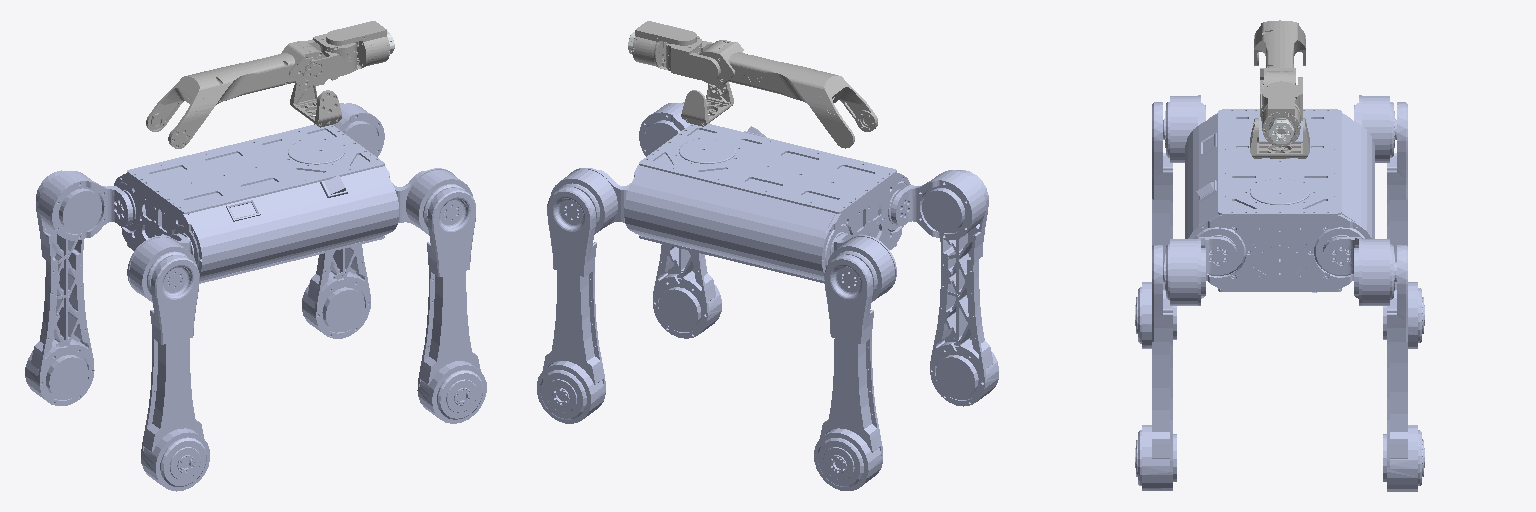
--- What the picture shows (computed from the rendered views, not written in the file) ---
The picture shows the robot from 3 angles, left to right: view 1: azimuth 30°, elevation 25°; view 2: azimuth 150°, elevation 25°; view 3: azimuth 270°, elevation 25°; orthographic projection.
Model lion with 25 links and 24 joints (18 revolute, 6 fixed), rooted at base, posed joints at zero except 4 at the middle of their limits (RF_KFE = -1.75, LF_KFE = -1.75, RH_KFE = -1.75, LH_KFE = -1.75).
Links seen in each view (by area): view 1: base, RH_thigh, RF_thigh, LH_thigh, elbow_link, LF_thigh, LH_hip, RF_hip, RH_hip, wrist_link, lower_arm_link, LF_hip (+1 smaller); view 2: base, LF_thigh, LH_thigh, RH_thigh, elbow_link, RF_thigh, RH_hip, LF_hip, LH_hip, wrist_link, lower_arm_link, RF_hip (+1 smaller); view 3: base, LF_thigh, RF_thigh, RF_hip, LF_hip, RH_thigh, LH_thigh, elbow_link, RH_hip, LH_hip, wrist_link, shoulder_link.
Link boxes in pixels (x1,y1,x2,y2): base: [114, 124, 398, 283]; RH_thigh: [141, 255, 209, 491]; RF_thigh: [417, 187, 486, 423]; LH_thigh: [25, 170, 94, 405]; elbow_link: [146, 41, 325, 148]; LF_thigh: [302, 103, 370, 338]; LH_hip: [38, 171, 132, 240]; RF_hip: [392, 168, 472, 234]; RH_hip: [127, 233, 196, 302]; wrist_link: [326, 21, 389, 69]; lower_arm_link: [303, 34, 356, 85]; LF_hip: [333, 103, 384, 157]; base: [624, 124, 910, 283]; LF_thigh: [537, 187, 605, 423]; LH_thigh: [814, 254, 882, 490]; RH_thigh: [930, 170, 998, 406]; elbow_link: [699, 40, 877, 148]; RF_thigh: [653, 102, 721, 338]; RH_hip: [891, 170, 985, 239]; LF_hip: [550, 168, 630, 234]; LH_hip: [828, 233, 896, 301]; wrist_link: [632, 21, 696, 70]; lower_arm_link: [666, 36, 720, 81]; RF_hip: [639, 103, 690, 156]; base: [1185, 109, 1374, 292]; LF_thigh: [1383, 245, 1424, 491]; RF_thigh: [1135, 245, 1176, 490]; RF_hip: [1163, 237, 1236, 305]; LF_hip: [1323, 237, 1396, 305]; RH_thigh: [1135, 102, 1176, 348]; LH_thigh: [1383, 102, 1424, 348]; elbow_link: [1254, 20, 1305, 88]; RH_hip: [1163, 95, 1205, 162]; LH_hip: [1354, 95, 1396, 162]; wrist_link: [1261, 81, 1301, 146]; shoulder_link: [1250, 118, 1309, 158].
Size in the robot's own frame: 0.593 by 0.424 by 0.6014 metres.
Meshes: 12 distinct files referenced, 14 mesh visuals loaded (8 binary STL); not drawn: 10 (reference not matched to a file when rendering).

URDF robot description (lion):
<?xml version="1.0" ?>
<!-- =================================================================================== -->
<!-- |    This document was autogenerated by xacro from robot.xacro                    | -->
<!-- |    EDITING THIS FILE BY HAND IS NOT RECOMMENDED                                 | -->
<!-- =================================================================================== -->
<robot name="lion">
  <!-- <xacro:arg name="robot_type" default="lion"/> -->
  <!-- ros_control plugin -->
  <gazebo>
    <plugin filename="liblegged_hw_sim.so" name="gazebo_ros_control">
      <robotNamespace>/</robotNamespace>
      <robotParam>legged_robot_description</robotParam>
      <robotSimType>legged_gazebo/QuadHWSim</robotSimType>
      <!-- <controlPeriod>0.002</controlPeriod> -->
    </plugin>
  </gazebo>
  <gazebo>
    <plugin filename="libgazebo_ros_p3d.so" name="p3d_base_controller">
      <alwaysOn>true</alwaysOn>
      <updateRate>1000.0</updateRate>
      <bodyName>base</bodyName>
      <topicName>ground_truth/state</topicName>
      <gaussianNoise>0</gaussianNoise>
      <frameName>world</frameName>
      <xyzOffsets>0 0 0</xyzOffsets>
      <rpyOffsets>0 0 0</rpyOffsets>
    </plugin>
  </gazebo>
  <gazebo reference="base">
    <maxVel>100.</maxVel>
    <kp>10000.</kp>
    <kd>0.</kd>
  </gazebo>
  <gazebo reference="stick_link">
    <mu1>0.2</mu1>
    <mu2>0.2</mu2>
    <material>Gazebo/White</material>
  </gazebo>
  <!-- LF leg -->
  <gazebo reference="LF_hip">
    <mu1>0.2</mu1>
    <mu2>0.2</mu2>
    <material>Gazebo/DarkGrey</material>
  </gazebo>
  <gazebo reference="LF_thigh">
    <mu1>0.2</mu1>
    <mu2>0.2</mu2>
    <self_collide>1</self_collide>
    <material>Gazebo/DarkGrey</material>
    <kp value="1000000.0"/>
    <kd value="1.0"/>
  </gazebo>
  <gazebo reference="LF_calf">
    <mu1>0.2</mu1>
    <mu2>0.2</mu2>
    <self_collide>1</self_collide>
  </gazebo>
  <gazebo reference="LF_FOOT">
    <mu1>0.9</mu1>
    <mu2>0.9</mu2>
    <self_collide>1</self_collide>
    <material>Gazebo/DarkGrey</material>
    <kp value="1000000.0"/>
    <kd value="100.0"/>
  </gazebo>
  <!-- RF leg -->
  <gazebo reference="RF_hip">
    <mu1>0.2</mu1>
    <mu2>0.2</mu2>
    <material>Gazebo/DarkGrey</material>
  </gazebo>
  <gazebo reference="RF_thigh">
    <mu1>0.2</mu1>
    <mu2>0.2</mu2>
    <self_collide>1</self_collide>
    <material>Gazebo/DarkGrey</material>
    <kp value="1000000.0"/>
    <kd value="1.0"/>
  </gazebo>
  <gazebo reference="RF_calf">
    <mu1>0.2</mu1>
    <mu2>0.2</mu2>
    <self_collide>1</self_collide>
  </gazebo>
  <gazebo reference="RF_FOOT">
    <mu1>0.9</mu1>
    <mu2>0.9</mu2>
    <self_collide>1</self_collide>
    <material>Gazebo/DarkGrey</material>
    <kp value="1000000.0"/>
    <kd value="1.0"/>
  </gazebo>
  <!-- LH leg -->
  <gazebo reference="LH_hip">
    <mu1>0.2</mu1>
    <mu2>0.2</mu2>
    <material>Gazebo/DarkGrey</material>
  </gazebo>
  <gazebo reference="LH_thigh">
    <mu1>0.2</mu1>
    <mu2>0.2</mu2>
    <self_collide>1</self_collide>
    <material>Gazebo/DarkGrey</material>
    <kp value="1000000.0"/>
    <kd value="1.0"/>
  </gazebo>
  <gazebo reference="LH_calf">
    <mu1>0.2</mu1>
    <mu2>0.2</mu2>
    <self_collide>1</self_collide>
  </gazebo>
  <gazebo reference="LH_FOOT">
    <mu1>0.9</mu1>
    <mu2>0.9</mu2>
    <self_collide>1</self_collide>
    <material>Gazebo/DarkGrey</material>
    <kp value="1000000.0"/>
    <kd value="1.0"/>
  </gazebo>
  <!-- RH leg -->
  <gazebo reference="RH_hip">
    <mu1>0.2</mu1>
    <mu2>0.2</mu2>
    <material>Gazebo/DarkGrey</material>
  </gazebo>
  <gazebo reference="RH_thigh">
    <mu1>0.2</mu1>
    <mu2>0.2</mu2>
    <self_collide>1</self_collide>
    <material>Gazebo/DarkGrey</material>
    <kp value="1000000.0"/>
    <kd value="1.0"/>
  </gazebo>
  <gazebo reference="RH_calf">
    <mu1>0.2</mu1>
    <mu2>0.2</mu2>
    <self_collide>1</self_collide>
  </gazebo>
  <gazebo reference="RH_FOOT">
    <mu1>0.9</mu1>
    <mu2>0.9</mu2>
    <self_collide>1</self_collide>
    <material>Gazebo/DarkGrey</material>
    <kp value="1000000.0"/>
    <kd value="1.0"/>
  </gazebo>
  <!-- <xacro:include filename="$(find lion_arx_description)/urdf/$(arg robot_type)/const.xacro"/> -->
  <!--Quadruped
  Model*******************************************************************************************-->
  <link name="base">
    <inertial>
      <origin rpy="0 0 0" xyz="-0.000638750070817345 -0.00672058356158241 -0.00556735378698432"/>
      <mass value="8.286"/>
      <inertia ixx="0.056529" ixy="-0.001107" ixz="-3.045E-05" iyy="0.14156" iyz="-0.0011531" izz="0.17939"/>
    </inertial>
    <visual>
      <origin rpy="0 0 0" xyz="0 0 0"/>
      <geometry>
        <mesh filename="package://lion_arx_description/meshes/base_link.STL"/>
      </geometry>
      <material name="">
        <color rgba="0.792156862745098 0.819607843137255 0.933333333333333 1"/>
      </material>
    </visual>
    <collision>
      <origin rpy="0 0 0" xyz="0 0 0"/>
      <geometry>
        <box size="0.35 0.24 0.14"/>
      </geometry>
    </collision>
  </link>
  <link name="RF_hip">
    <inertial>
      <origin rpy="0 0 0" xyz="-0.0050797 -0.047183 4.172E-05"/>
      <mass value="1.095"/>
      <inertia ixx="0.0010035" ixy="-0.00021789" ixz="1.433E-06" iyy="0.0014762" iyz="1.005E-06" izz="0.0012507"/>
    </inertial>
    <visual>
      <origin rpy="0 0 0" xyz="0 0 0"/>
      <geometry>
        <mesh filename="package://lion_arx_description/meshes/hip_Link.STL"/>
      </geometry>
      <material name="">
        <color rgba="0.79216 0.81961 0.93333 1"/>
      </material>
    </visual>
    <collision>
      <origin rpy="1.5707963267948966 0 0" xyz="0.0 -0.05 0"/>
      <geometry>
        <!-- <box size="0.05 0.03 0.3"/> -->
        <cylinder length="0.06" radius="0.05"/>
      </geometry>
    </collision>
  </link>
  <joint name="RF_HAA" type="revolute">
    <origin rpy="0.0 0.0 0 " xyz="0.2467 -0.09 0"/>
    <parent link="base"/>
    <child link="RF_hip"/>
    <axis xyz="1 0 0"/>
    <limit effort="55" lower="-1.0" upper="1.0" velocity="30"/>
  </joint>
  <link name="RF_thigh">
    <inertial>
      '' 
      <origin rpy="0 0 0" xyz="-2.7705E-05 -0.089684 -0.23198"/>
      <mass value="1.556"/>
      <inertia ixx="0.015631" ixy="-8.61E-07" ixz="-6.078E-06" iyy="0.016183" iyz="0.0004689" izz="0.0011163"/>
    </inertial>
    <visual>
      <origin rpy="0 0 0" xyz="0 0 0"/>
      <geometry>
        <mesh filename="package://lion_arx_description/meshes/thigh_Link.STL"/>
      </geometry>
      <material name="">
        <color rgba="0.79216 0.81961 0.93333 1"/>
      </material>
    </visual>
    <collision>
      <origin rpy="1.5707963267948966 0 0" xyz="0 -0.09 -0.3"/>
      <geometry>
        <!-- <box size="0.05 0.03 0.3"/> -->
        <cylinder length="0.06" radius="0.05"/>
      </geometry>
    </collision>
  </link>
  <joint name="RF_HFE" type="revolute">
    <origin rpy="0 0.0 0" xyz="0 0 0"/>
    <parent link="RF_hip"/>
    <child link="RF_thigh"/>
    <axis xyz="0 1 0"/>
    <limit effort="55" lower="-3.0" upper="3.0" velocity="30"/>
  </joint>
  <link name="RF_calf">
    <inertial>
      <origin rpy="0 0 0" xyz="2.05E-06 -0.12517 -0.080832"/>
      <mass value="0.233"/>
      <inertia ixx="0.0033053" ixy="-3.64E-07" ixz="4.028E-06" iyy="0.0033126" iyz="-0.00013194" izz="4.3236E-05"/>
    </inertial>
    <visual>
      <origin rpy="0 0 0" xyz="0 0 0"/>
      <geometry>
        <mesh filename="package://lion_arx_description/meshes/shank_Link.STL"/>
      </geometry>
      <material name="">
        <color rgba="0.79216 0.81961 0.93333 1"/>
      </material>
    </visual>
    <collision>
      <origin rpy="0 0 0" xyz="0 -0.119 -0.15"/>
      <geometry>
        <cylinder length="0.2" radius="0.01"/>
      </geometry>
    </collision>
  </link>
  <joint name="RF_KFE" type="revolute">
    <origin rpy="0 0 0" xyz="0 0 -0.3"/>
    <parent link="RF_thigh"/>
    <child link="RF_calf"/>
    <axis xyz="0 1 0"/>
    <limit effort="55" lower="-3.0" upper="-0.5" velocity="30"/>
  </joint>
  <link name="RF_FOOT">
    <contact>
      <friction_anchor/>
      <stiffness value="30000.0"/>
      <damping value="1000.0"/>
      <spinning_friction value="0.3"/>
      <lateral_friction value="3.0"/>
    </contact>
    <inertial>
      <origin rpy="0 0 0" xyz="0.0002617 0.00017365 0.0085579"/>
      <!-- <mass value="0.03946"/> -->
      <mass value="0.01"/>
      <!-- <inertia ixx="1.4527E-05" ixy="-8.5021E-08" ixz="-4.0103E-07" iyy="1.4601E-05"
      iyz="-2.6548E-07" izz="6.2338E-06"/> -->
      <inertia ixx="0.001983" ixy="0.000245" ixz="0.000013" iyy="0.002103" iyz="0.0000015" izz="0.000408"/>
    </inertial>
    <visual>
      <origin rpy="0 0 0" xyz="0 0 0"/>
      <geometry>
        <mesh filename="package://lion_arx_description/meshes/foot_Link.STL"/>
      </geometry>
      <material name="">
        <color rgba="0.79216 0.81961 0.93333 1"/>
      </material>
    </visual>
    <collision>
      <origin rpy="0 0 0" xyz="0 0 0.002"/>
      <geometry>
        <sphere radius="0.02"/>
      </geometry>
    </collision>
  </link>
  <joint name="JointFR_foot" type="fixed">
    <origin rpy="0 0 0" xyz="0 -0.119 -0.3105"/>
    <parent link="RF_calf"/>
    <child link="RF_FOOT"/>
    <axis xyz="0 0 1"/>
  </joint>
  <link name="LF_hip">
    <inertial>
      <origin rpy="0 0 0" xyz="-0.0050797 -0.047183 4.172E-05"/>
      <!-- <mass value="0.39498"/> -->
      <mass value="1.095"/>
      <inertia ixx="0.0010035" ixy="-0.00021789" ixz="1.433E-06" iyy="0.0014762" iyz="1.005E-06" izz="0.0012507"/>
    </inertial>
    <visual>
      <origin rpy="0 0 0" xyz="0 0 0"/>
      <geometry>
        <mesh filename="package://lion_arx_description/meshes/hip_Link.STL"/>
      </geometry>
      <material name="">
        <color rgba="0.79216 0.81961 0.93333 1"/>
      </material>
    </visual>
    <collision>
      <origin rpy="1.5707963267948966 0 0" xyz="0.0 -0.05 0"/>
      <geometry>
        <!-- <box size="0.05 0.03 0.3"/> -->
        <cylinder length="0.06" radius="0.05"/>
      </geometry>
    </collision>
  </link>
  <joint name="LF_HAA" type="revolute">
    <origin rpy="3.141592653589793 0.0 0 " xyz="0.2467 0.09 0"/>
    <parent link="base"/>
    <child link="LF_hip"/>
    <axis xyz="1 0 0"/>
    <limit effort="55" lower="-1.0" upper="1.0" velocity="30"/>
  </joint>
  <link name="LF_thigh">
    <inertial>
      <origin rpy="0 0 0" xyz="-2.7705E-05 -0.089684 -0.23198"/>
      <mass value="1.556"/>
      <inertia ixx="0.015631" ixy="-8.61E-07" ixz="-6.078E-06" iyy="0.016183" iyz="0.0004689" izz="0.0011163"/>
    </inertial>
    <visual>
      <origin rpy="0 0 0" xyz="0 0 0"/>
      <geometry>
        <mesh filename="package://lion_arx_description/meshes/thigh_Link.STL"/>
      </geometry>
      <material name="">
        <color rgba="0.79216 0.81961 0.93333 1"/>
      </material>
    </visual>
    <collision>
      <origin rpy="1.5707963267948966 0 0" xyz="0 -0.09 -0.3"/>
      <geometry>
        <!-- <box size="0.05 0.03 0.3"/> -->
        <cylinder length="0.06" radius="0.05"/>
      </geometry>
    </collision>
  </link>
  <joint name="LF_HFE" type="revolute">
    <origin rpy="0 3.141592653589793 0" xyz="0 0 0"/>
    <parent link="LF_hip"/>
    <child link="LF_thigh"/>
    <axis xyz="0 -1 0"/>
    <limit effort="55" lower="-3.0" upper="3.0" velocity="30"/>
  </joint>
  <link name="LF_calf">
    <inertial>
      <origin rpy="0 0 0" xyz="2.05E-06 -0.12517 -0.080832"/>
      <mass value="0.233"/>
      <inertia ixx="0.0033053" ixy="-3.64E-07" ixz="4.028E-06" iyy="0.0033126" iyz="-0.00013194" izz="4.3236E-05"/>
    </inertial>
    <visual>
      <origin rpy="0 0 0" xyz="0 0 0"/>
      <geometry>
        <mesh filename="package://lion_arx_description/meshes/shank_Link.STL"/>
      </geometry>
      <material name="">
        <color rgba="0.79216 0.81961 0.93333 1"/>
      </material>
    </visual>
    <collision>
      <origin rpy="0 0 0" xyz="0 -0.119 -0.15"/>
      <geometry>
        <cylinder length="0.2" radius="0.01"/>
      </geometry>
    </collision>
  </link>
  <joint name="LF_KFE" type="revolute">
    <origin rpy="0 0 0" xyz="0 0 -0.3"/>
    <parent link="LF_thigh"/>
    <child link="LF_calf"/>
    <axis xyz="0 -1 0"/>
    <limit effort="55" lower="-3.0" upper="-0.5" velocity="30"/>
  </joint>
  <link name="LF_FOOT">
    <contact>
      <friction_anchor/>
      <stiffness value="30000.0"/>
      <damping value="1000.0"/>
      <spinning_friction value="0.3"/>
      <lateral_friction value="3.0"/>
    </contact>
    <inertial>
      <origin rpy="0 0 0" xyz="0.0002617 0.00017365 0.0085579"/>
      <!-- <mass value="0.03946"/> -->
      <mass value="0.01"/>
      <!-- <inertia ixx="1.4527E-05" ixy="-8.5021E-08" ixz="-4.0103E-07" iyy="1.4601E-05"
      iyz="-2.6548E-07" izz="6.2338E-06"/> -->
      <inertia ixx="0.001983" ixy="0.000245" ixz="0.000013" iyy="0.002103" iyz="0.0000015" izz="0.000408"/>
    </inertial>
    <visual>
      <origin rpy="0 0 0" xyz="0 0 0"/>
      <geometry>
        <mesh filename="package://lion_arx_description/meshes/foot_Link.STL"/>
      </geometry>
      <material name="">
        <color rgba="0.79216 0.81961 0.93333 1"/>
      </material>
    </visual>
    <collision>
      <origin rpy="0 0 0" xyz="0 0 0.002"/>
      <geometry>
        <sphere radius="0.02"/>
      </geometry>
    </collision>
  </link>
  <joint name="JointFL_foot" type="fixed">
    <origin rpy="0 0 0" xyz="0 -0.119 -0.3105"/>
    <parent link="LF_calf"/>
    <child link="LF_FOOT"/>
    <axis xyz="0 0 1"/>
  </joint>
  <link name="RH_hip">
    <inertial>
      <origin rpy="0 0 0" xyz="-0.0050797 -0.047183 4.172E-05"/>
      <mass value="1.095"/>
      <inertia ixx="0.0010035" ixy="-0.00021789" ixz="1.433E-06" iyy="0.0014762" iyz="1.005E-06" izz="0.0012507"/>
    </inertial>
    <visual>
      <origin rpy="0 0 0" xyz="0 0 0"/>
      <geometry>
        <mesh filename="package://lion_arx_description/meshes/hip_Link.STL"/>
      </geometry>
      <material name="">
        <color rgba="0.79216 0.81961 0.93333 1"/>
      </material>
    </visual>
    <collision>
      <origin rpy="1.5707963267948966 0 0" xyz="0.0 -0.05 0"/>
      <geometry>
        <!-- <box size="0.05 0.03 0.3"/> -->
        <cylinder length="0.06" radius="0.05"/>
      </geometry>
    </collision>
  </link>
  <joint name="RH_HAA" type="revolute">
    <origin rpy="0.0 3.141592653589793 0 " xyz="-0.2467 -0.09 0"/>
    <parent link="base"/>
    <child link="RH_hip"/>
    <axis xyz="-1 0 0"/>
    <limit effort="55" lower="-1.0" upper="1.0" velocity="30"/>
  </joint>
  <link name="RH_thigh">
    <inertial>
      <origin rpy="0 0 0" xyz="-2.7705E-05 -0.089684 -0.23198"/>
      <mass value="1.556"/>
      <inertia ixx="0.015631" ixy="-8.61E-07" ixz="-6.078E-06" iyy="0.016183" iyz="0.0004689" izz="0.0011163"/>
    </inertial>
    <visual>
      <origin rpy="0 0 0" xyz="0 0 0"/>
      <geometry>
        <mesh filename="package://lion_arx_description/meshes/thigh_Link.STL"/>
      </geometry>
      <material name="">
        <color rgba="0.79216 0.81961 0.93333 1"/>
      </material>
    </visual>
    <collision>
      <origin rpy="1.5707963267948966 0 0" xyz="0 -0.09 -0.3"/>
      <geometry>
        <!-- <box size="0.05 0.03 0.3"/> -->
        <cylinder length="0.06" radius="0.05"/>
      </geometry>
    </collision>
  </link>
  <joint name="RH_HFE" type="revolute">
    <origin rpy="0 3.141592653589793 0" xyz="0 0 0"/>
    <parent link="RH_hip"/>
    <child link="RH_thigh"/>
    <axis xyz="0 1 0"/>
    <limit effort="55" lower="-3.0" upper="3.0" velocity="30"/>
  </joint>
  <link name="RH_calf">
    <inertial>
      <origin rpy="0 0 0" xyz="2.05E-06 -0.12517 -0.080832"/>
      <mass value="0.233"/>
      <inertia ixx="0.0033053" ixy="-3.64E-07" ixz="4.028E-06" iyy="0.0033126" iyz="-0.00013194" izz="4.3236E-05"/>
    </inertial>
    <visual>
      <origin rpy="0 0 0" xyz="0 0 0"/>
      <geometry>
        <mesh filename="package://lion_arx_description/meshes/shank_Link.STL"/>
      </geometry>
      <material name="">
        <color rgba="0.79216 0.81961 0.93333 1"/>
      </material>
    </visual>
    <collision>
      <origin rpy="0 0 0" xyz="0 -0.119 -0.15"/>
      <geometry>
        <cylinder length="0.2" radius="0.01"/>
      </geometry>
    </collision>
  </link>
  <joint name="RH_KFE" type="revolute">
    <origin rpy="0 0 0" xyz="0 0 -0.3"/>
    <parent link="RH_thigh"/>
    <child link="RH_calf"/>
    <axis xyz="0 1 0"/>
    <limit effort="55" lower="-3.0" upper="-0.5" velocity="30"/>
  </joint>
  <link name="RH_FOOT">
    <contact>
      <friction_anchor/>
      <stiffness value="30000.0"/>
      <damping value="1000.0"/>
      <spinning_friction value="0.3"/>
      <lateral_friction value="3.0"/>
    </contact>
    <inertial>
      <origin rpy="0 0 0" xyz="0.0002617 0.00017365 0.0085579"/>
      <!-- <mass value="0.03946"/> -->
      <mass value="0.01"/>
      <!-- <inertia ixx="1.4527E-05" ixy="-8.5021E-08" ixz="-4.0103E-07" iyy="1.4601E-05"
      iyz="-2.6548E-07" izz="6.2338E-06"/> -->
      <inertia ixx="0.001983" ixy="0.000245" ixz="0.000013" iyy="0.002103" iyz="0.0000015" izz="0.000408"/>
    </inertial>
    <visual>
      <origin rpy="0 0 0" xyz="0 0 0"/>
      <geometry>
        <mesh filename="package://lion_arx_description/meshes/foot_Link.STL"/>
      </geometry>
      <material name="">
        <color rgba="0.79216 0.81961 0.93333 1"/>
      </material>
    </visual>
    <collision>
      <origin rpy="0 0 0" xyz="0 0 0.002"/>
      <geometry>
        <sphere radius="0.02"/>
      </geometry>
    </collision>
  </link>
  <joint name="JointHR_foot" type="fixed">
    <origin rpy="0 0 0" xyz="0 -0.119 -0.3105"/>
    <parent link="RH_calf"/>
    <child link="RH_FOOT"/>
    <axis xyz="0 0 1"/>
  </joint>
  <link name="LH_hip">
    <inertial>
      <origin rpy="0 0 0" xyz="-0.0050797 -0.047183 4.172E-05"/>
      <mass value="1.095"/>
      <inertia ixx="0.0010035" ixy="-0.00021789" ixz="1.433E-06" iyy="0.0014762" iyz="1.005E-06" izz="0.0012507"/>
    </inertial>
    <visual>
      <origin rpy="0 0 0" xyz="0 0 0"/>
      <geometry>
        <mesh filename="package://lion_arx_description/meshes/hip_Link.STL"/>
      </geometry>
      <material name="">
        <color rgba="0.79216 0.81961 0.93333 1"/>
      </material>
    </visual>
    <collision>
      <origin rpy="1.5707963267948966 0 0" xyz="0.0 -0.05 0"/>
      <geometry>
        <!-- <box size="0.05 0.03 0.3"/> -->
        <cylinder length="0.06" radius="0.05"/>
      </geometry>
    </collision>
  </link>
  <joint name="LH_HAA" type="revolute">
    <origin rpy="3.141592653589793 3.141592653589793 0 " xyz="-0.2467 0.09 0"/>
    <parent link="base"/>
    <child link="LH_hip"/>
    <axis xyz="-1 0 0"/>
    <limit effort="55" lower="-1.0" upper="1.0" velocity="30"/>
  </joint>
  <link name="LH_thigh">
    <inertial>
      <origin rpy="0 0 0" xyz="-2.7705E-05 -0.089684 -0.23198"/>
      <mass value="1.556"/>
      <inertia ixx="0.015631" ixy="-8.61E-07" ixz="-6.078E-06" iyy="0.016183" iyz="0.0004689" izz="0.0011163"/>
    </inertial>
    <visual>
      <origin rpy="0 0 0" xyz="0 0 0"/>
      <geometry>
        <mesh filename="package://lion_arx_description/meshes/thigh_Link.STL"/>
      </geometry>
      <material name="">
        <color rgba="0.79216 0.81961 0.93333 1"/>
      </material>
    </visual>
    <collision>
      <origin rpy="1.5707963267948966 0 0" xyz="0 -0.09 -0.3"/>
      <geometry>
        <!-- <box size="0.05 0.03 0.3"/> -->
        <cylinder length="0.06" radius="0.05"/>
      </geometry>
    </collision>
  </link>
  <joint name="LH_HFE" type="revolute">
    <origin rpy="0 6.283185307179586 0" xyz="0 0 0"/>
    <parent link="LH_hip"/>
    <child link="LH_thigh"/>
    <axis xyz="0 -1 0"/>
    <limit effort="55" lower="-3.0" upper="3.0" velocity="30"/>
  </joint>
  <link name="LH_calf">
    <inertial>
      <origin rpy="0 0 0" xyz="2.05E-06 -0.12517 -0.080832"/>
      <mass value="0.233"/>
      <inertia ixx="0.0033053" ixy="-3.64E-07" ixz="4.028E-06" iyy="0.0033126" iyz="-0.00013194" izz="4.3236E-05"/>
    </inertial>
    <visual>
      <origin rpy="0 0 0" xyz="0 0 0"/>
      <geometry>
        <mesh filename="package://lion_arx_description/meshes/shank_Link.STL"/>
      </geometry>
      <material name="">
        <color rgba="0.79216 0.81961 0.93333 1"/>
      </material>
    </visual>
    <collision>
      <origin rpy="0 0 0" xyz="0 -0.119 -0.15"/>
      <geometry>
        <cylinder length="0.2" radius="0.01"/>
      </geometry>
    </collision>
  </link>
  <joint name="LH_KFE" type="revolute">
    <origin rpy="0 0 0" xyz="0 0 -0.3"/>
    <parent link="LH_thigh"/>
    <child link="LH_calf"/>
    <axis xyz="0 -1 0"/>
    <limit effort="55" lower="-3.0" upper="-0.5" velocity="30"/>
  </joint>
  <link name="LH_FOOT">
    <contact>
      <friction_anchor/>
      <stiffness value="30000.0"/>
      <damping value="1000.0"/>
      <spinning_friction value="0.3"/>
      <lateral_friction value="3.0"/>
    </contact>
    <inertial>
      <origin rpy="0 0 0" xyz="0.0002617 0.00017365 0.0085579"/>
      <!-- <mass value="0.03946"/> -->
      <mass value="0.01"/>
      <!-- <inertia ixx="1.4527E-05" ixy="-8.5021E-08" ixz="-4.0103E-07" iyy="1.4601E-05"
      iyz="-2.6548E-07" izz="6.2338E-06"/> -->
      <inertia ixx="0.001983" ixy="0.000245" ixz="0.000013" iyy="0.002103" iyz="0.0000015" izz="0.000408"/>
    </inertial>
    <visual>
      <origin rpy="0 0 0" xyz="0 0 0"/>
      <geometry>
        <mesh filename="package://lion_arx_description/meshes/foot_Link.STL"/>
      </geometry>
      <material name="">
        <color rgba="0.79216 0.81961 0.93333 1"/>
      </material>
    </visual>
    <collision>
      <origin rpy="0 0 0" xyz="0 0 0.002"/>
      <geometry>
        <sphere radius="0.02"/>
      </geometry>
    </collision>
  </link>
  <joint name="JointHL_foot" type="fixed">
    <origin rpy="0 0 0" xyz="0 -0.119 -0.3105"/>
    <parent link="LH_calf"/>
    <child link="LH_FOOT"/>
    <axis xyz="0 0 1"/>
  </joint>
  <!-- Arm Model
  ********************************************************************************************************  -->
  <link name="arm_base_link">
    <inertial>
      <origin rpy="0 0 0" xyz="-2.9956E-05 3.0541E-05 0.027289"/>
      <mass value="0.44061"/>
      <inertia ixx="0.00017" ixy="0.00000" ixz="0.00000" iyy="0.00018" iyz="0.00000" izz="0.00016"/>
    </inertial>
    <visual>
      <origin rpy="0 0 0" xyz="0 0 0"/>
      <geometry>
        <mesh filename="package://lion_arx_description/meshes/arm_base_link.STL"/>
      </geometry>
      <material name="">
        <color rgba="0.75294 0.75294 0.75294 1"/>
      </material>
    </visual>
    <collision>
      <origin rpy="0 0 0" xyz="0 0 0"/>
      <geometry>
        <mesh filename="package://lion_arx_description/meshes/arm_base_link.STL"/>
      </geometry>
    </collision>
  </link>
  <joint name="arm_fix" type="fixed">
    <origin rpy="0 0 0" xyz="0.1075 0 0.0635"/>
    <parent link="base"/>
    <child link="arm_base_link"/>
  </joint>
  <link name="shoulder_link">
    <inertial>
      <origin rpy="0 0 0" xyz="-0.00012207 -6.5868E-06 0.016529"/>
      <mass value="0.078442"/>
      <inertia ixx="0.00009" ixy="0.00000" ixz="0.00000" iyy="0.00003" iyz="0.00000" izz="0.00009"/>
    </inertial>
    <visual>
      <origin rpy="0 0 0" xyz="0 0 0"/>
      <geometry>
        <mesh filename="package://lion_arx_description/meshes/link1.STL"/>
      </geometry>
      <material name="">
        <color rgba="0.75294 0.75294 0.75294 1"/>
      </material>
    </visual>
    <collision>
      <origin rpy="0 0 0" xyz="0 0 0"/>
      <geometry>
        <mesh filename="package://lion_arx_description/meshes/link1.STL"/>
      </geometry>
    </collision>
  </link>
  <joint name="joint1" type="revolute">
    <origin rpy="0 0 0" xyz="0 0 0.0603"/>
    <parent link="arm_base_link"/>
    <child link="shoulder_link"/>
    <axis xyz="0 0 1"/>
    <limit effort="25.0" lower="-1.57" upper="1.57" velocity="10.0"/>
    <dynamics damping="0.1" friction="0.01"/>
  </joint>
  <link name="upper_arm_link">
    <inertial>
      <origin rpy="0 0 0" xyz="-0.13238 0.0021952 0.00011182"/>
      <mass value="1.073"/>
      <inertia ixx="0.00050" ixy="0.00000" ixz="-0.00004" iyy="0.01596" iyz="0.00000" izz="0.01602"/>
    </inertial>
    <visual>
      <origin rpy="0 0 0" xyz="0 0 0"/>
      <geometry>
        <mesh filename="package://lion_arx_description/meshes/link2.STL"/>
      </geometry>
      <material name="">
        <color rgba="0.75294 0.75294 0.75294 1"/>
      </material>
    </visual>
    <collision>
      <origin rpy="0 0 0" xyz="0 0 0"/>
      <geometry>
        <mesh filename="package://lion_arx_description/meshes/link2.STL"/>
      </geometry>
    </collision>
  </link>
  <joint name="joint2" type="revolute">
    <origin rpy="0 0 0" xyz="0 0 0.0402"/>
    <parent link="shoulder_link"/>
    <child link="upper_arm_link"/>
    <axis xyz="0 1 0"/>
    <limit effort="25.0" lower="0." upper="3.14" velocity="10."/>
    <dynamics damping="0.1" friction="0.01"/>
  </joint>
  <link name="elbow_link">
    <inertial>
      <origin rpy="0 0 0" xyz="0.18794 0.0016321 -0.051557"/>
      <mass value="0.50518"/>
      <inertia ixx="0.00037" ixy="-0.00001" ixz="-0.00039" iyy="0.00393" iyz="0.00001" izz="0.00390"/>
    </inertial>
    <visual>
      <origin rpy="0 0 0" xyz="0 0 0"/>
      <geometry>
        <mesh filename="package://lion_arx_description/meshes/link3.STL"/>
      </geometry>
      <material name="">
        <color rgba="0.75294 0.75294 0.75294 1"/>
      </material>
    </visual>
    <collision>
      <origin rpy="0 0 0" xyz="0 0 0"/>
      <geometry>
        <mesh filename="package://lion_arx_description/meshes/link3.STL"/>
      </geometry>
    </collision>
  </link>
  <joint name="joint3" type="revolute">
    <origin rpy="-3.1416 0 0" xyz="-0.264 0 0"/>
    <parent link="upper_arm_link"/>
    <child link="elbow_link"/>
    <axis xyz="0 1 0"/>
    <limit effort="25." lower="0." upper="3.14" velocity="10."/>
    <dynamics damping="0.1" friction="0.01"/>
  </joint>
  <link name="lower_arm_link">
    <inertial>
      <origin rpy="0 0 0" xyz="0.054496 -0.00085704 0.0020301"/>
      <mass value="0.34332"/>
      <inertia ixx="0.00018" ixy="-0.00001" ixz="0.00000" iyy="0.00022" iyz="0.00001" izz="0.00026"/>
    </inertial>
    <visual>
      <origin rpy="0 0 0" xyz="0 0 0"/>
      <geometry>
        <mesh filename="package://lion_arx_description/meshes/link4.STL"/>
      </geometry>
      <material name="">
        <color rgba="0.75294 0.75294 0.75294 1"/>
      </material>
    </visual>
    <collision>
      <origin rpy="0 0 0" xyz="0 0 0"/>
      <geometry>
        <mesh filename="package://lion_arx_description/meshes/link4.STL"/>
      </geometry>
    </collision>
  </link>
  <joint name="joint4" type="revolute">
    <origin rpy="0 0 0" xyz="0.245 0 -0.056"/>
    <parent link="elbow_link"/>
    <child link="lower_arm_link"/>
    <axis xyz="0 1 0"/>
    <limit effort="15.0" lower="-1.3" upper="1.3" velocity="10."/>
    <dynamics damping="0.1" friction="0.2"/>
  </joint>
  <link name="wrist_link">
    <inertial>
      <origin rpy="0 0 0" xyz="0.053308 5.0047E-05 -0.0012315"/>
      <mass value="0.33126"/>
      <inertia ixx="0.00017" ixy="0.00000" ixz="-0.00001" iyy="0.00024" iyz="0.00000" izz="0.00021"/>
    </inertial>
    <visual>
      <origin rpy="0 0 0" xyz="0 0 0"/>
      <geometry>
        <mesh filename="package://lion_arx_description/meshes/link5.STL"/>
      </geometry>
      <material name="">
        <color rgba="0.75294 0.75294 0.75294 1"/>
      </material>
    </visual>
    <collision>
      <origin rpy="0 0 0" xyz="0 0 0"/>
      <geometry>
        <mesh filename="package://lion_arx_description/meshes/link5.STL"/>
      </geometry>
    </collision>
  </link>
  <joint name="joint5" type="revolute">
    <origin rpy="0 0 0" xyz="0.06 -0.002 0.0005"/>
    <parent link="lower_arm_link"/>
    <child link="wrist_link"/>
    <axis xyz="0 0 1"/>
    <limit effort="15.0" lower="-1.3" upper="1.3" velocity="10.0"/>
    <dynamics damping="0.1" friction="0.2"/>
  </joint>
  <link name="hand_link">
    <inertial>
      <origin rpy="0 0 0" xyz="0.0057186 2.3419E-17 0"/>
      <mass value="0.022383"/>
      <inertia ixx="0.00000" ixy="0.00000" ixz="0.00000" iyy="0.00000" iyz="0.00000" izz="0.00000"/>
    </inertial>
    <visual>
      <origin rpy="0 0 0" xyz="0 0 0"/>
      <geometry>
        <mesh filename="package://lion_arx_description/meshes/link6.STL"/>
      </geometry>
      <material name="">
        <color rgba="0.89804 0.91765 0.92941 1"/>
      </material>
    </visual>
    <collision>
      <origin rpy="0 0 0" xyz="0 0 0"/>
      <geometry>
        <mesh filename="package://lion_arx_description/meshes/link6.STL"/>
      </geometry>
    </collision>
  </link>
  <joint name="joint6" type="revolute">
    <origin rpy="3.1416 0 0" xyz="0.078 0 -0.0005"/>
    <parent link="wrist_link"/>
    <child link="hand_link"/>
    <axis xyz="1 0 0"/>
    <limit effort="15." lower="-10." upper="10." velocity="10."/>
    <dynamics damping="0.1" friction="0.2"/>
  </joint>
  <!-- Imu is fixed to the base link -->
  <joint name="unitree_imu_joint" type="fixed">
    <origin rpy="0. 0. 0." xyz="0. 0. 0."/>
    <parent link="base"/>
    <child link="unitree_imu"/>
  </joint>
  <!-- Imu link -->
  <link name="unitree_imu">
    <inertial>
      <mass value="0.01"/>
      <origin rpy="0 0 0" xyz="0 0 0"/>
      <inertia ixx="0.000001" ixy="0" ixz="0" iyy="0.000001" iyz="0" izz="0.000001"/>
    </inertial>
    <visual>
      <origin rpy="0 0 0" xyz="0 0 0"/>
      <geometry>
        <box size="0.015 0.015 0.004"/>
      </geometry>
    </visual>
    <material name="orange">
      <color rgba="255 108 10 255"/>
    </material>
  </link>
  <gazebo reference="unitree_imu">
    <material>Gazebo/Orange</material>
  </gazebo>
  <gazebo reference="unitree_imu_joint">
    <disableFixedJointLumping>true</disableFixedJointLumping>
  </gazebo>
  <transmission name="RF_HAA_tran">
    <type>transmission_interface/SimpleTransmission</type>
    <joint name="RF_HAA">
      <hardwareInterface>hardware_interface/EffortJointInterface</hardwareInterface>
    </joint>
    <actuator name="RF_HAA_motor">
      <hardwareInterface>hardware_interface/EffortJointInterface</hardwareInterface>
      <mechanicalReduction>1</mechanicalReduction>
    </actuator>
  </transmission>
  <transmission name="RF_HFE_tran">
    <type>transmission_interface/SimpleTransmission</type>
    <joint name="RF_HFE">
      <hardwareInterface>hardware_interface/EffortJointInterface</hardwareInterface>
    </joint>
    <actuator name="RF_HFE_motor">
      <hardwareInterface>hardware_interface/EffortJointInterface</hardwareInterface>
      <mechanicalReduction>1</mechanicalReduction>
    </actuator>
  </transmission>
  <transmission name="RF_KFE_tran">
    <type>transmission_interface/SimpleTransmission</type>
    <joint name="RF_KFE">
      <hardwareInterface>hardware_interface/EffortJointInterface</hardwareInterface>
    </joint>
    <actuator name="RF_KFE_motor">
      <hardwareInterface>hardware_interface/EffortJointInterface</hardwareInterface>
      <mechanicalReduction>1</mechanicalReduction>
    </actuator>
  </transmission>
  <transmission name="LF_HAA_tran">
    <type>transmission_interface/SimpleTransmission</type>
    <joint name="LF_HAA">
      <hardwareInterface>hardware_interface/EffortJointInterface</hardwareInterface>
    </joint>
    <actuator name="LF_HAA_motor">
      <hardwareInterface>hardware_interface/EffortJointInterface</hardwareInterface>
      <mechanicalReduction>1</mechanicalReduction>
    </actuator>
  </transmission>
  <transmission name="LF_HFE_tran">
    <type>transmission_interface/SimpleTransmission</type>
    <joint name="LF_HFE">
      <hardwareInterface>hardware_interface/EffortJointInterface</hardwareInterface>
    </joint>
    <actuator name="LF_HFE_motor">
      <hardwareInterface>hardware_interface/EffortJointInterface</hardwareInterface>
      <mechanicalReduction>1</mechanicalReduction>
    </actuator>
  </transmission>
  <transmission name="LF_KFE_tran">
    <type>transmission_interface/SimpleTransmission</type>
    <joint name="LF_KFE">
      <hardwareInterface>hardware_interface/EffortJointInterface</hardwareInterface>
    </joint>
    <actuator name="LF_KFE_motor">
      <hardwareInterface>hardware_interface/EffortJointInterface</hardwareInterface>
      <mechanicalReduction>1</mechanicalReduction>
    </actuator>
  </transmission>
  <transmission name="RH_HAA_tran">
    <type>transmission_interface/SimpleTransmission</type>
    <joint name="RH_HAA">
      <hardwareInterface>hardware_interface/EffortJointInterface</hardwareInterface>
    </joint>
    <actuator name="RH_HAA_motor">
      <hardwareInterface>hardware_interface/EffortJointInterface</hardwareInterface>
      <mechanicalReduction>1</mechanicalReduction>
    </actuator>
  </transmission>
  <transmission name="RH_HFE_tran">
    <type>transmission_interface/SimpleTransmission</type>
    <joint name="RH_HFE">
      <hardwareInterface>hardware_interface/EffortJointInterface</hardwareInterface>
    </joint>
    <actuator name="RH_HFE_motor">
      <hardwareInterface>hardware_interface/EffortJointInterface</hardwareInterface>
      <mechanicalReduction>1</mechanicalReduction>
    </actuator>
  </transmission>
  <transmission name="RH_KFE_tran">
    <type>transmission_interface/SimpleTransmission</type>
    <joint name="RH_KFE">
      <hardwareInterface>hardware_interface/EffortJointInterface</hardwareInterface>
    </joint>
    <actuator name="RH_KFE_motor">
      <hardwareInterface>hardware_interface/EffortJointInterface</hardwareInterface>
      <mechanicalReduction>1</mechanicalReduction>
    </actuator>
  </transmission>
  <transmission name="LH_HAA_tran">
    <type>transmission_interface/SimpleTransmission</type>
    <joint name="LH_HAA">
      <hardwareInterface>hardware_interface/EffortJointInterface</hardwareInterface>
    </joint>
    <actuator name="LH_HAA_motor">
      <hardwareInterface>hardware_interface/EffortJointInterface</hardwareInterface>
      <mechanicalReduction>1</mechanicalReduction>
    </actuator>
  </transmission>
  <transmission name="LH_HFE_tran">
    <type>transmission_interface/SimpleTransmission</type>
    <joint name="LH_HFE">
      <hardwareInterface>hardware_interface/EffortJointInterface</hardwareInterface>
    </joint>
    <actuator name="LH_HFE_motor">
      <hardwareInterface>hardware_interface/EffortJointInterface</hardwareInterface>
      <mechanicalReduction>1</mechanicalReduction>
    </actuator>
  </transmission>
  <transmission name="LH_KFE_tran">
    <type>transmission_interface/SimpleTransmission</type>
    <joint name="LH_KFE">
      <hardwareInterface>hardware_interface/EffortJointInterface</hardwareInterface>
    </joint>
    <actuator name="LH_KFE_motor">
      <hardwareInterface>hardware_interface/EffortJointInterface</hardwareInterface>
      <mechanicalReduction>1</mechanicalReduction>
    </actuator>
  </transmission>
  <transmission name="joint1_tran">
    <type>transmission_interface/SimpleTransmission</type>
    <joint name="joint1">
      <hardwareInterface>hardware_interface/EffortJointInterface</hardwareInterface>
    </joint>
    <actuator name="joint1_motor">
      <hardwareInterface>hardware_interface/EffortJointInterface</hardwareInterface>
      <mechanicalReduction>1</mechanicalReduction>
    </actuator>
  </transmission>
  <transmission name="joint2_tran">
    <type>transmission_interface/SimpleTransmission</type>
    <joint name="joint2">
      <hardwareInterface>hardware_interface/EffortJointInterface</hardwareInterface>
    </joint>
    <actuator name="joint2_motor">
      <hardwareInterface>hardware_interface/EffortJointInterface</hardwareInterface>
      <mechanicalReduction>1</mechanicalReduction>
    </actuator>
  </transmission>
  <transmission name="joint3_tran">
    <type>transmission_interface/SimpleTransmission</type>
    <joint name="joint3">
      <hardwareInterface>hardware_interface/EffortJointInterface</hardwareInterface>
    </joint>
    <actuator name="joint3_motor">
      <hardwareInterface>hardware_interface/EffortJointInterface</hardwareInterface>
      <mechanicalReduction>1</mechanicalReduction>
    </actuator>
  </transmission>
  <transmission name="joint4_tran">
    <type>transmission_interface/SimpleTransmission</type>
    <joint name="joint4">
      <hardwareInterface>hardware_interface/EffortJointInterface</hardwareInterface>
    </joint>
    <actuator name="joint4_motor">
      <hardwareInterface>hardware_interface/EffortJointInterface</hardwareInterface>
      <mechanicalReduction>1</mechanicalReduction>
    </actuator>
  </transmission>
  <transmission name="joint5_tran">
    <type>transmission_interface/SimpleTransmission</type>
    <joint name="joint5">
      <hardwareInterface>hardware_interface/EffortJointInterface</hardwareInterface>
    </joint>
    <actuator name="joint5_motor">
      <hardwareInterface>hardware_interface/EffortJointInterface</hardwareInterface>
      <mechanicalReduction>1</mechanicalReduction>
    </actuator>
  </transmission>
  <transmission name="joint6_tran">
    <type>transmission_interface/SimpleTransmission</type>
    <joint name="joint6">
      <hardwareInterface>hardware_interface/EffortJointInterface</hardwareInterface>
    </joint>
    <actuator name="joint6_motor">
      <hardwareInterface>hardware_interface/EffortJointInterface</hardwareInterface>
      <mechanicalReduction>1</mechanicalReduction>
    </actuator>
  </transmission>
</robot>
